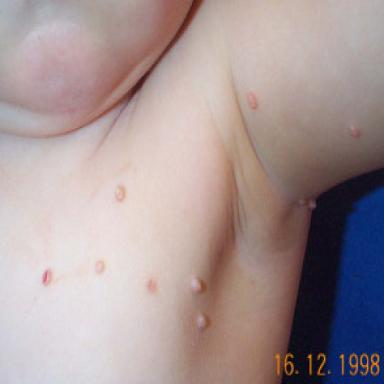Molluscum-Contagiosum: (246, 92, 259, 111), (114, 185, 126, 204), (191, 277, 204, 294), (197, 313, 209, 329), (349, 125, 361, 139), (95, 260, 105, 275)
